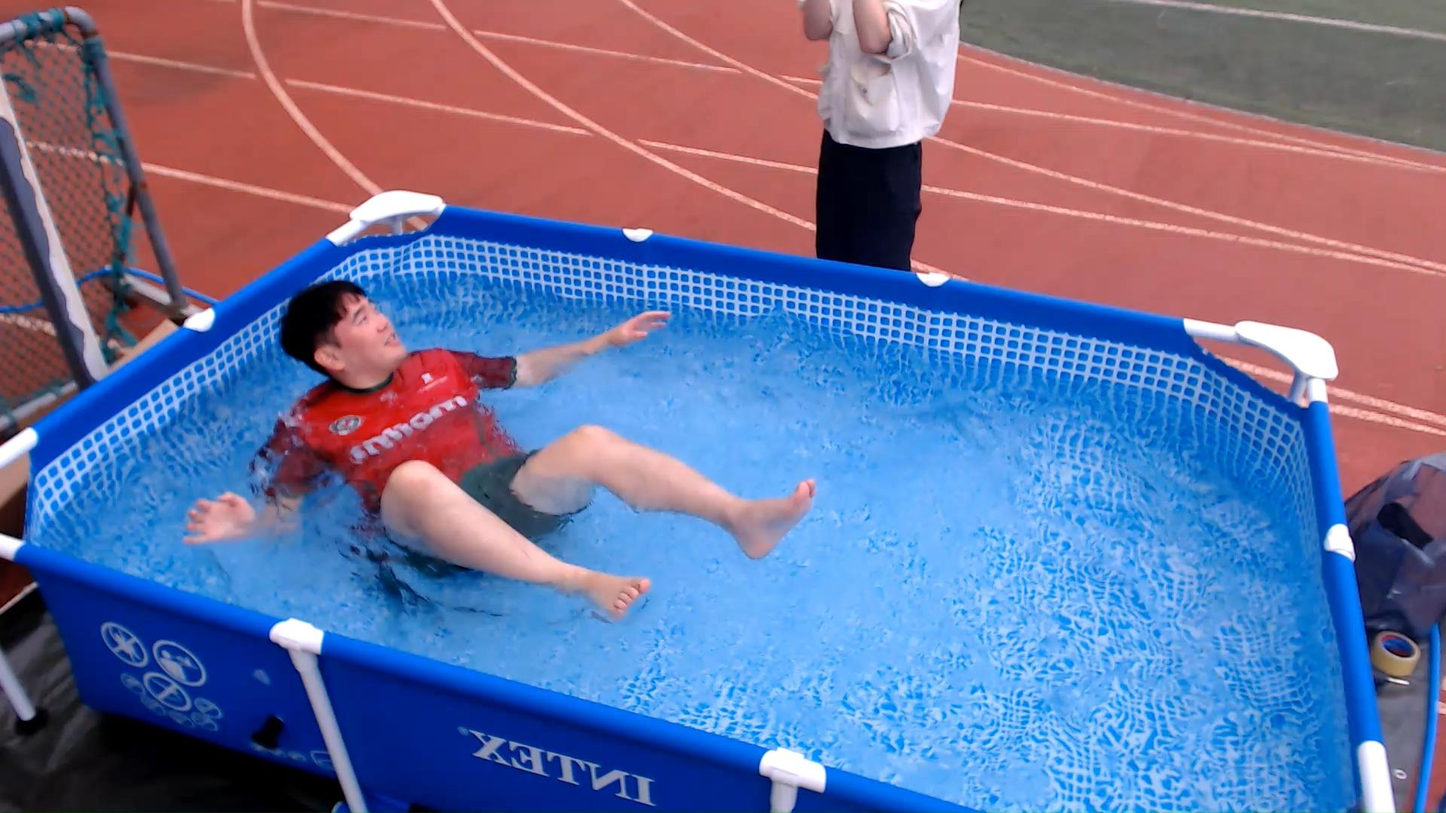Drowning: (205, 247, 855, 617)
Person-out-of-water: (771, 5, 966, 299)
